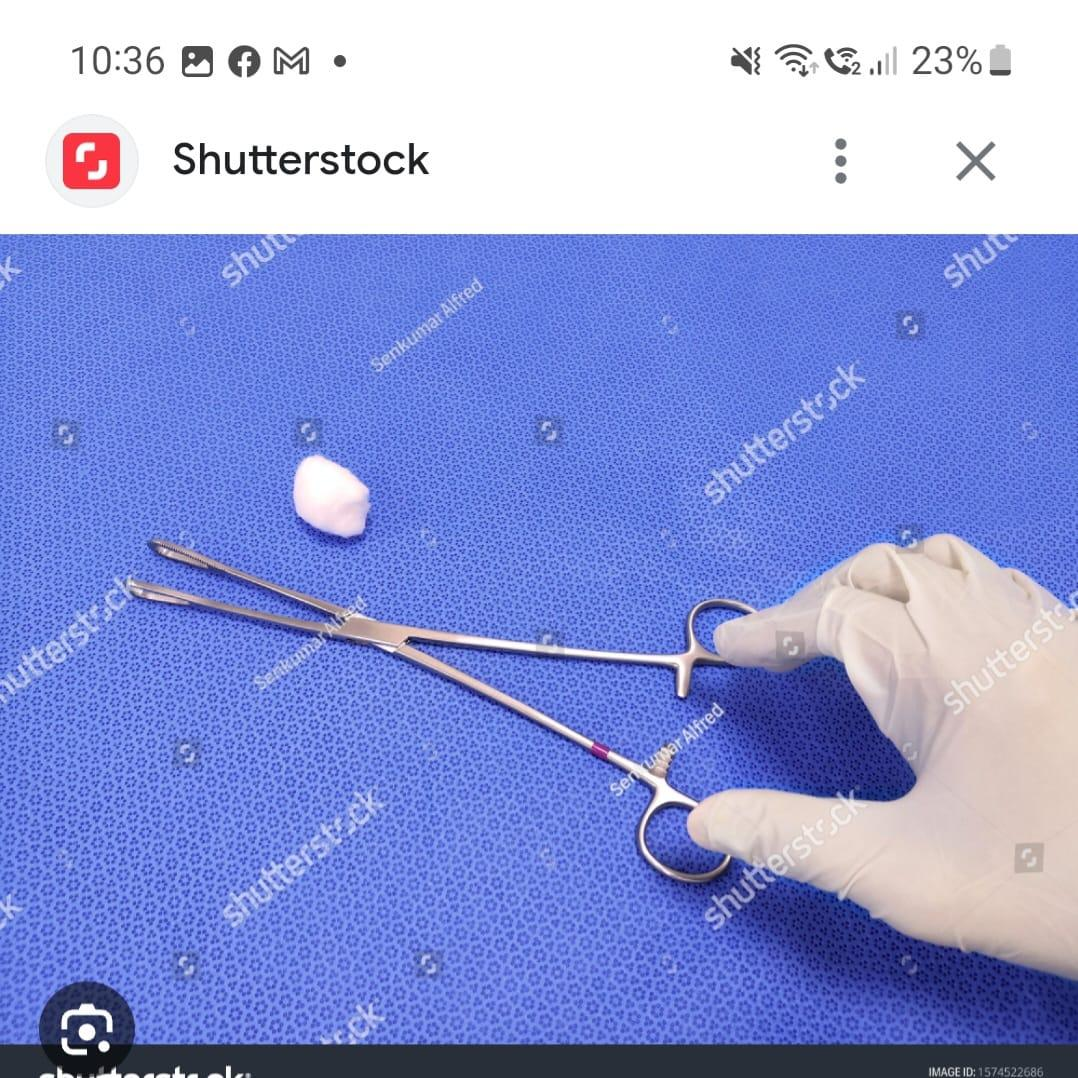Sponge Holding Forceps: (127, 528, 780, 893)
